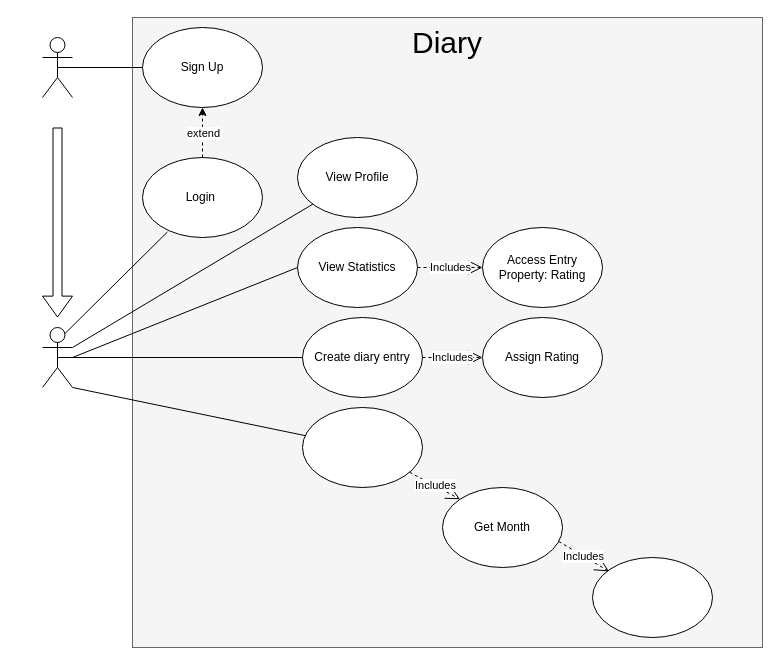
Image size: 780x665. Some labels were removed from this diagram. The centre of each missing label's shape, as x and y in pixels:
"Get Diary Entry" goes at [652,597].
"New User" goes at [57,67].
"Returning User" goes at [57,357].
"View Year Calendar" goes at [362,447].
